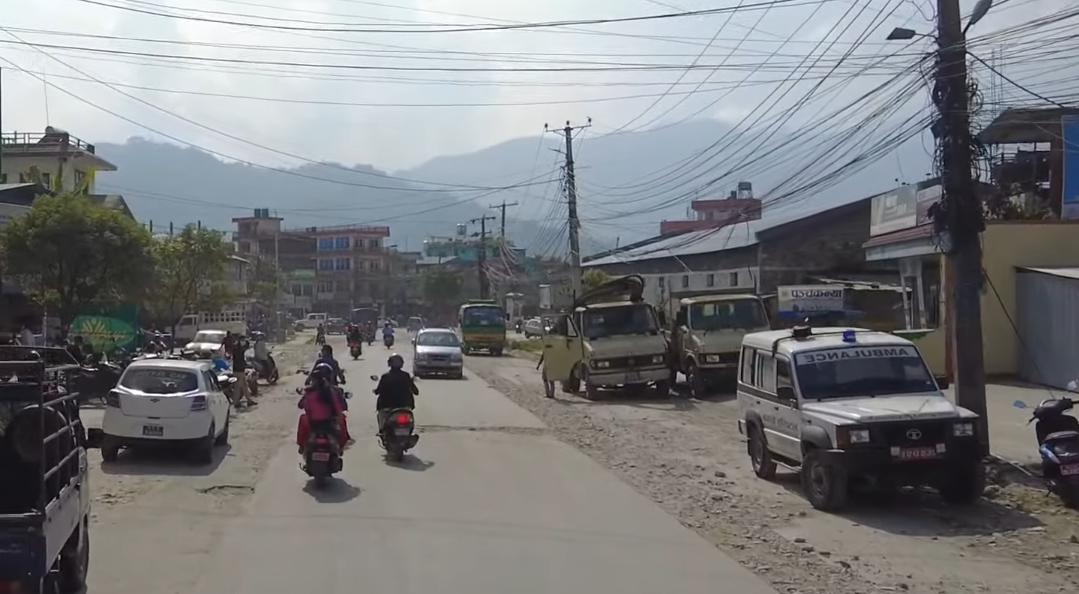ambulance: (733, 317, 994, 509)
bus: (459, 296, 509, 359)
car: (96, 354, 233, 463), (412, 327, 467, 380)
mini_truck: (547, 291, 676, 410), (664, 280, 773, 396)
scooter: (294, 386, 357, 492), (370, 374, 423, 465)
transport_vehicle: (167, 306, 248, 342)
